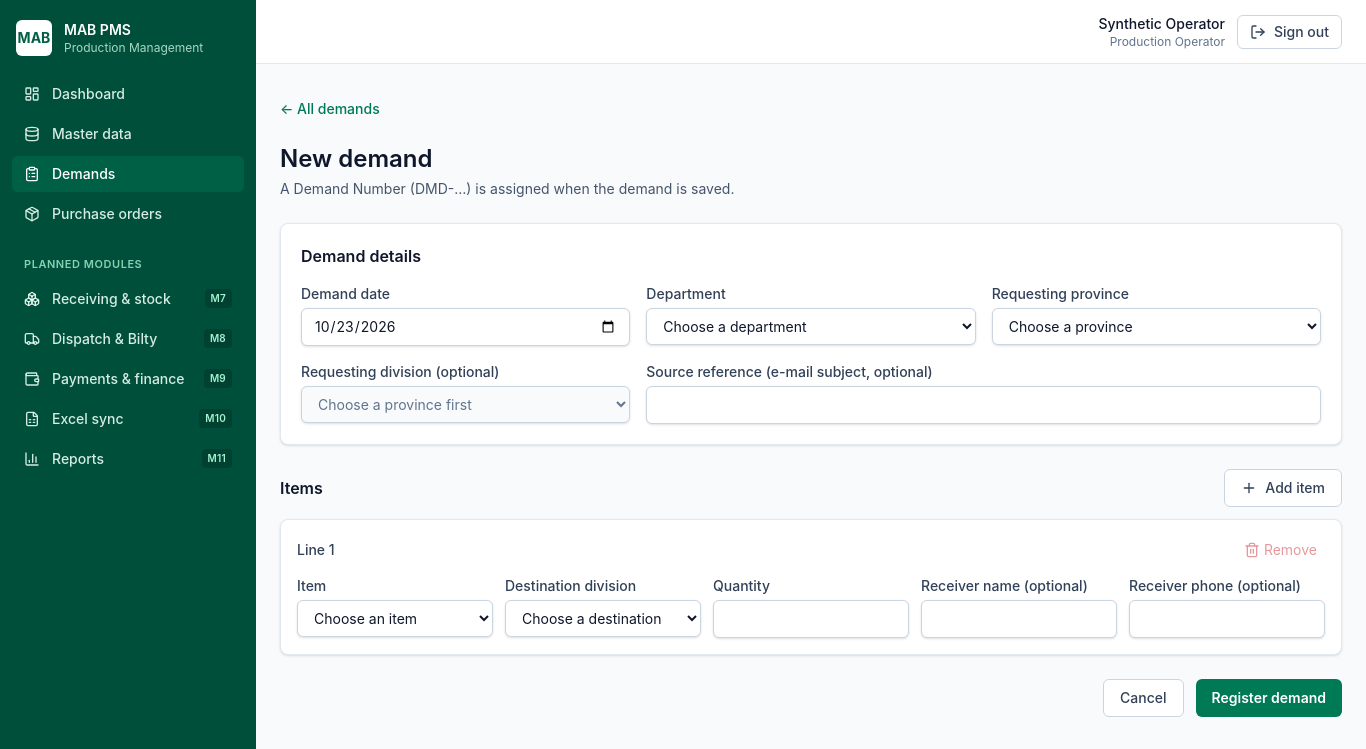
Scenario: Demand form — create › removes a line but never the last one
Check: the heading "New demand" is shown, box x1=280 y1=144 x2=432 y2=173
Check: the button with aria-label "Remove line 1" is disabled, box x1=1236 y1=536 x2=1325 y2=564
Click the button "Add item".
click(1283, 488)  # box x1=1224 y1=469 x2=1342 y2=507
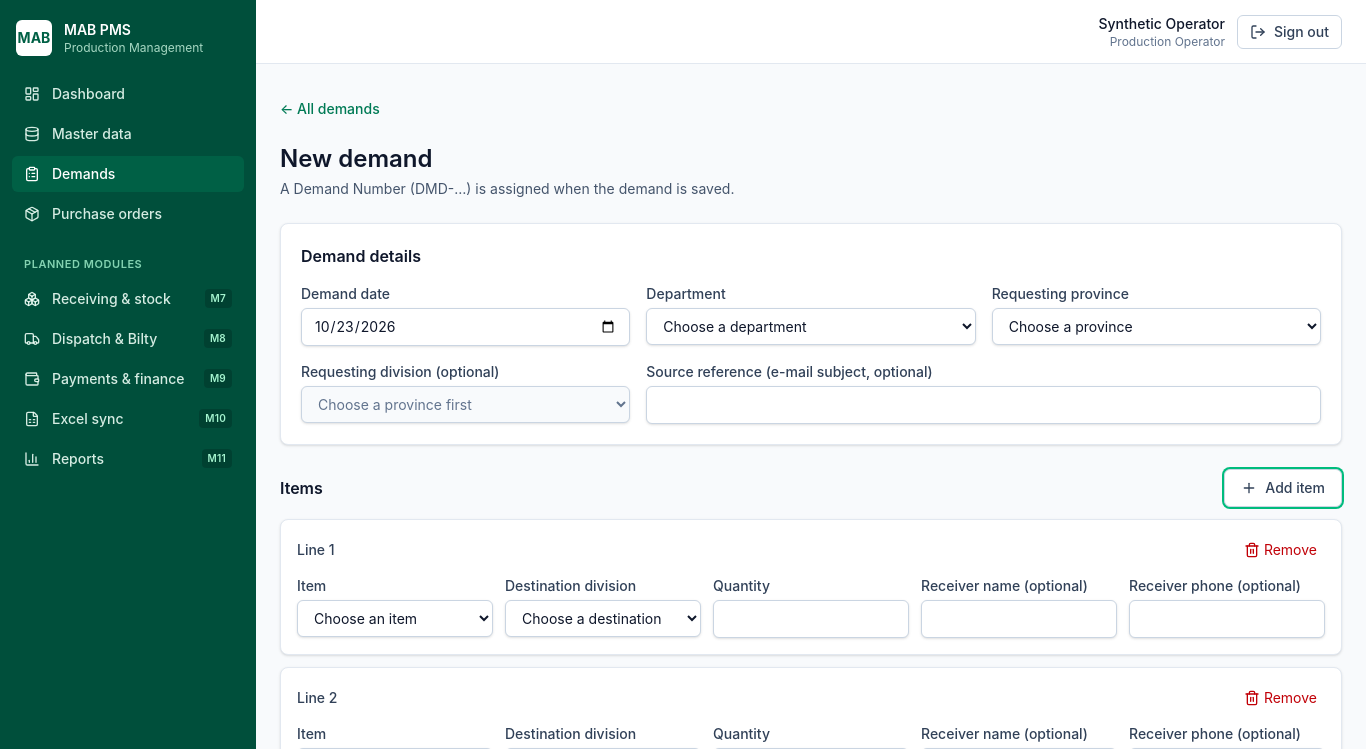
Click the button with aria-label "Remove line 2".
click(1280, 698)  # box x1=1236 y1=684 x2=1325 y2=712
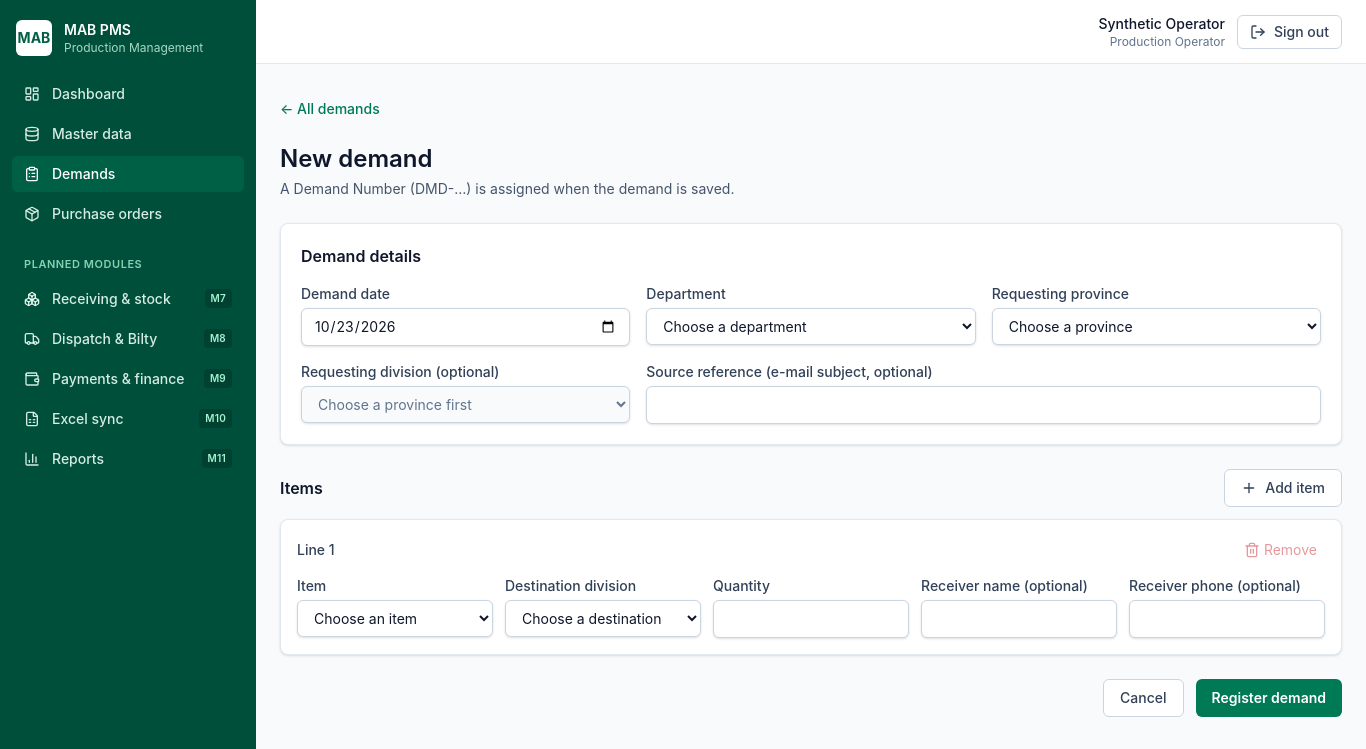
Check: the number of list items named "Item line" is 1, box x1=280 y1=519 x2=1342 y2=655
